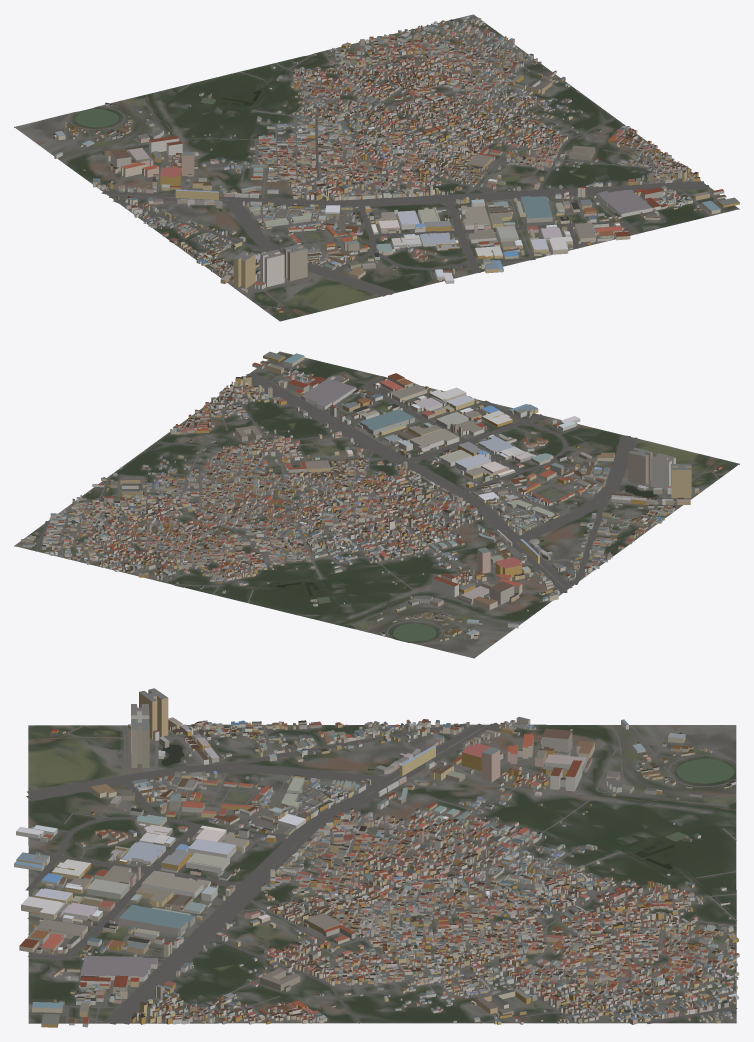
3 views of the same model, one above another, from view 1: azimuth 30°, elevation 25°; view 2: azimuth 150°, elevation 25°; view 3: azimuth 270°, elevation 25° (orthographic). The views are drawn at different scales.
Visible parts, largest first — view 1: buildings, ground, roads, water; view 2: buildings, ground, roads, water; view 3: buildings, ground, roads, water.
Boxes of the visible parts, x1=… form: buildings: x1=52, y1=16, x2=739, y2=312; ground: x1=14, y1=14, x2=739, y2=321; roads: x1=20, y1=20, x2=725, y2=316; water: x1=75, y1=54, x2=312, y2=273; buildings: x1=20, y1=351, x2=722, y2=641; ground: x1=14, y1=351, x2=739, y2=658; roads: x1=35, y1=358, x2=718, y2=653; water: x1=175, y1=485, x2=656, y2=641; buildings: x1=14, y1=688, x2=739, y2=1027; ground: x1=28, y1=724, x2=736, y2=1023; roads: x1=25, y1=723, x2=737, y2=1024; water: x1=161, y1=744, x2=736, y2=919.
Size of the model in its own units: 1433 by 86.38 by 1438.
